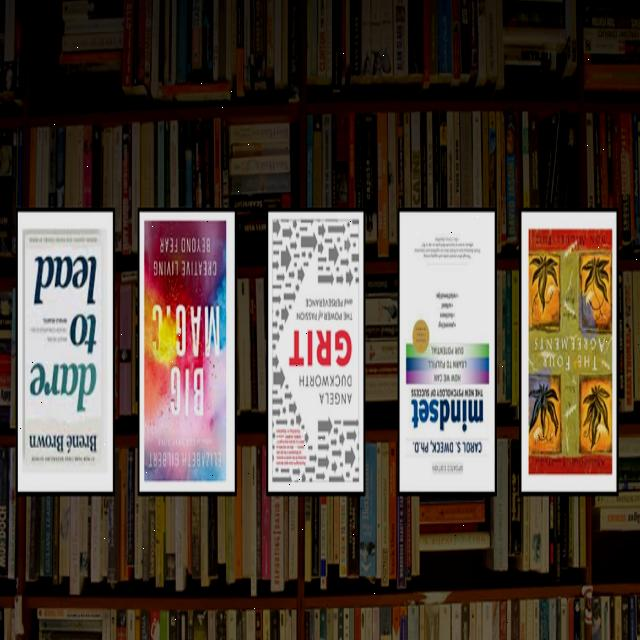book: (400, 211, 497, 498), (269, 212, 364, 494), (145, 221, 227, 480), (529, 228, 613, 473), (24, 233, 106, 478)
